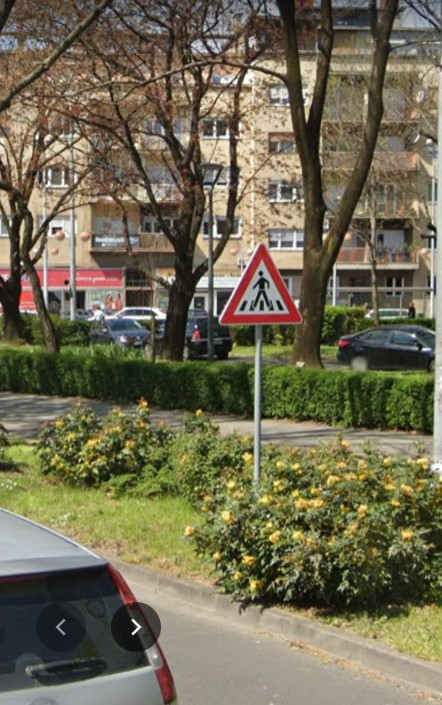Približavanje pješačkom prijelazu: (218, 243, 303, 326)
